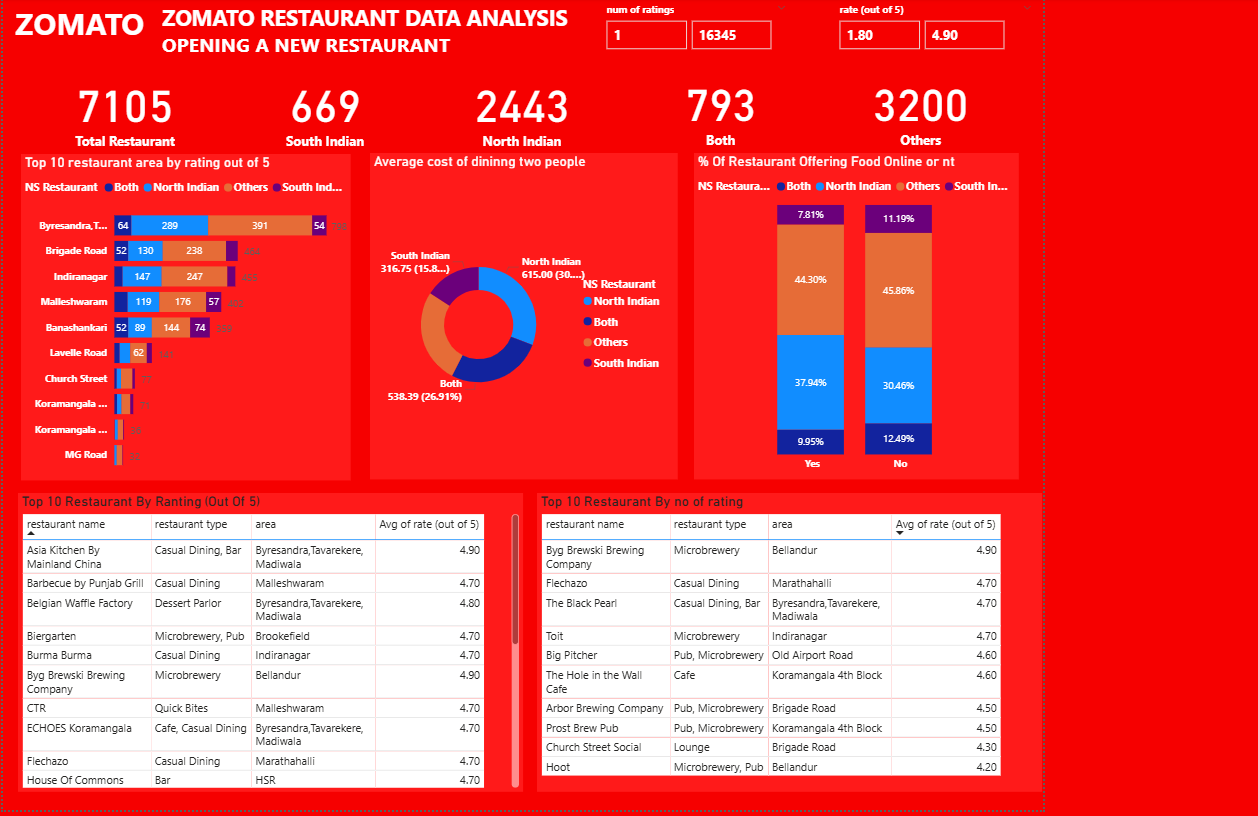

The page's visual inventory and layout, read from the dashboard file:
{"tool":"powerbi","page":{"name":"Page 2","canvas":[1280,1000],"ordinal":1},"visuals":[{"type":"textbox","box":[9.5,0,174.6,66.7],"z":0},{"type":"textbox","box":[190.5,0,539.7,85.7],"z":1000},{"type":"slicer","fields":{"Values":["zomato.num of ratings"]},"box":[730.2,0,246,95.2],"z":2000},{"type":"slicer","fields":{"Values":["zomato.rate (out of 5)"]},"box":[1017.5,0,261.9,95.2],"z":3000},{"type":"card","fields":{"Values":["Count(zomato.restaurant name)"]},"box":[42.9,84.1,214.3,107.9],"z":4000},{"type":"card","fields":{"Values":["Count(zomato.restaurant name)"]},"box":[292.1,84.1,209.5,107.9],"z":5000},{"type":"card","fields":{"Values":["Count(zomato.restaurant name)"]},"box":[1022.2,82.5,215.9,107.9],"z":6000},{"type":"card","fields":{"Values":["Count(zomato.restaurant name)"]},"box":[776.2,82.5,215.9,107.9],"z":7000},{"type":"card","fields":{"Values":["Count(zomato.restaurant name)"]},"box":[531.7,84.1,214.3,107.9],"z":8000},{"type":"barChart","title":"Top 10 restaurant area by rating out of 5","fields":{"Category":["zomato.area"],"Y":["CountNonNull(zomato.NS Restaurant)"],"Series":["zomato.NS Restaurant"]},"box":[22.2,192.1,406.3,401.6],"z":9000},{"type":"donutChart","title":"Average cost of dininng two people","fields":{"Y":["Avg(zomato.avg cost (two people))"],"Category":["zomato.NS Restaurant"]},"box":[452.4,190.5,379.4,401.6],"z":10000},{"type":"hundredPercentStackedColumnChart","title":"% Of Restaurant Offering Food Online or nt","fields":{"Category":["zomato.online_order"],"Series":["zomato.NS Restaurant"],"Y":["CountNonNull(zomato.restaurant name)"]},"box":[850.8,190.5,400,401.6],"z":11000},{"type":"tableEx","title":"Top 10 Restaurant By Ranting (Out Of 5)","fields":{"Values":["zomato.restaurant name","zomato.restaurant type","zomato.area","Avg(zomato.rate (out of 5))"]},"box":[18.1,609.1,622.2,368.3],"z":12000},{"type":"tableEx","title":"Top 10 Restaurant By no of rating","fields":{"Values":["zomato.restaurant name","zomato.restaurant type","zomato.area","Avg(zomato.rate (out of 5))"]},"box":[657.1,609.5,622.2,368.3],"z":13000}]}

Visuals, with their boxes on the page's 1280x1000 design canvas (x1, y1, x2, y2). These are canvas units, not pixel positions in the 1258x816 screenshot, which may show the page scaled, cropped or inside an application window:
textbox: <region>10, 0, 184, 67</region>
textbox: <region>190, 0, 730, 86</region>
slicer - zomato.num of ratings: <region>730, 0, 976, 95</region>
slicer - zomato.rate (out of 5): <region>1018, 0, 1279, 95</region>
card - Count(zomato.restaurant name): <region>43, 84, 257, 192</region>
card - Count(zomato.restaurant name): <region>292, 84, 502, 192</region>
card - Count(zomato.restaurant name): <region>1022, 82, 1238, 190</region>
card - Count(zomato.restaurant name): <region>776, 82, 992, 190</region>
card - Count(zomato.restaurant name): <region>532, 84, 746, 192</region>
"Top 10 restaurant area by rating out of 5" barChart: <region>22, 192, 428, 594</region>
"Average cost of dininng two people" donutChart: <region>452, 190, 832, 592</region>
"% Of Restaurant Offering Food Online or nt" hundredPercentStackedColumnChart: <region>851, 190, 1251, 592</region>
"Top 10 Restaurant By Ranting (Out Of 5)" tableEx: <region>18, 609, 640, 977</region>
"Top 10 Restaurant By no of rating" tableEx: <region>657, 610, 1279, 978</region>
